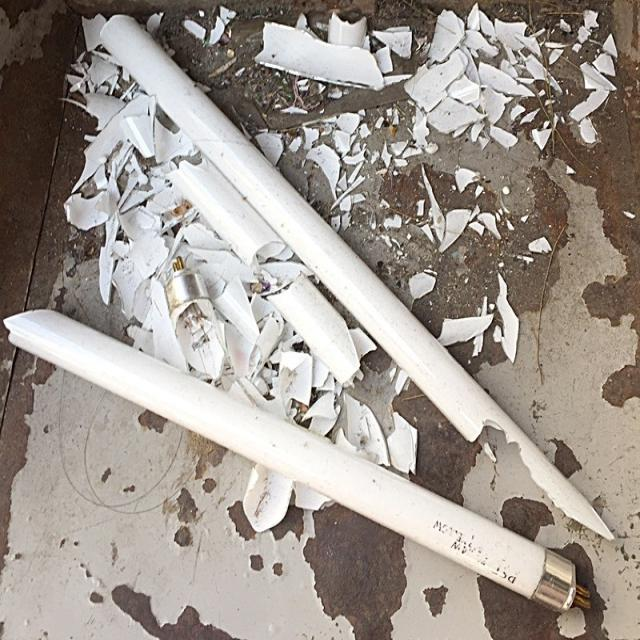bulb: (25, 24, 575, 579)
